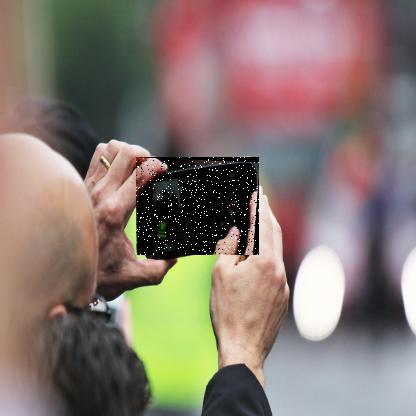Camera: (138, 158, 262, 257)
